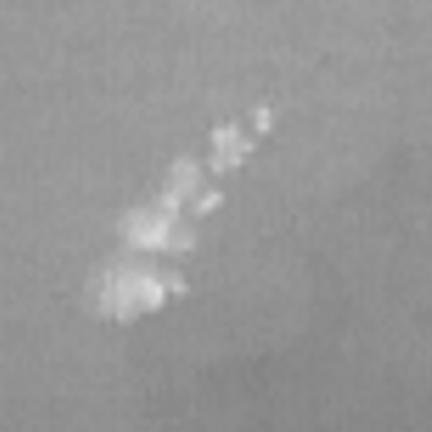flukeprints: (97, 266, 168, 321), (209, 123, 252, 174), (194, 191, 223, 216), (251, 106, 272, 136)
